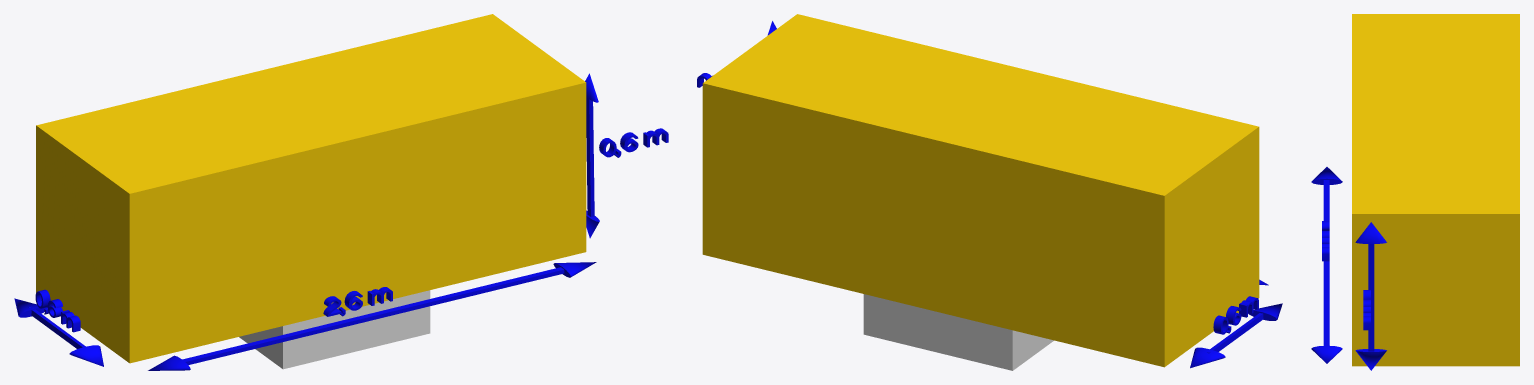
File: asset.glb
The picture shows the model from 3 angles, left to right: view 1: azimuth 30°, elevation 25°; view 2: azimuth 150°, elevation 25°; view 3: azimuth 270°, elevation 25°; orthographic projection. The views are drawn at different scales.
Parts seen in each view (by area): view 1: Box, Cube, Box1, Text, Text1, Box2, Text2; view 2: Box, Cube, Text2, Box3; view 3: Box, Box1, Box2, Cone2, Cone6, Cone, Text, Text1, Cone1.
Boxes of the visible parts, box(x1,y1,x2,y2) form: Box: box(36, 14, 586, 363); Cube: box(239, 290, 430, 369); Box1: box(182, 267, 564, 364); Text: box(323, 287, 392, 316); Text1: box(599, 128, 668, 157); Box2: box(586, 97, 594, 216); Text2: box(35, 289, 80, 332); Box: box(702, 14, 1259, 367); Cube: box(863, 294, 1053, 370); Text2: box(1213, 296, 1258, 334); Box3: box(1206, 313, 1263, 353); Box: box(1352, 14, 1519, 366); Box1: box(1323, 180, 1329, 345); Box2: box(1368, 244, 1374, 351); Cone2: box(1355, 222, 1386, 243); Cone6: box(1355, 349, 1386, 370); Cone: box(1311, 345, 1342, 363); Text: box(1322, 221, 1329, 261); Text1: box(1363, 290, 1370, 330); Cone1: box(1311, 167, 1342, 184).
Size of the model in its own units: 7.94 by 2.8 by 2.73.
